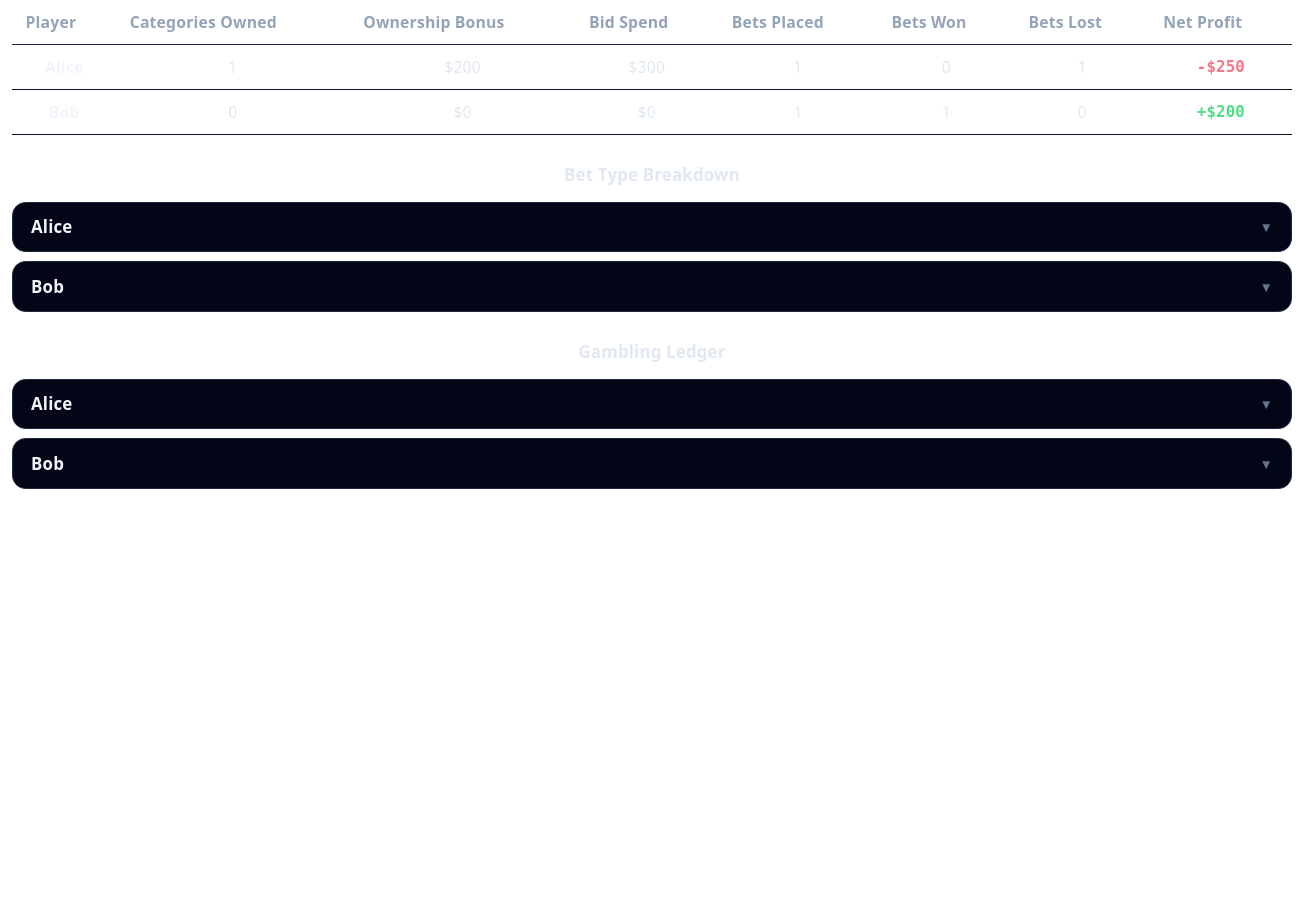
Scenario: GamblingAnalytics › renders correctly with populated ledger › renders each player their own ledger section holding only their entries
What coordinates should you click on to do the following:
click the button "Alice ▼" below "Gambling Ledger"
I would click on:
 (52, 403)
Its box is [13,380,1291,428].
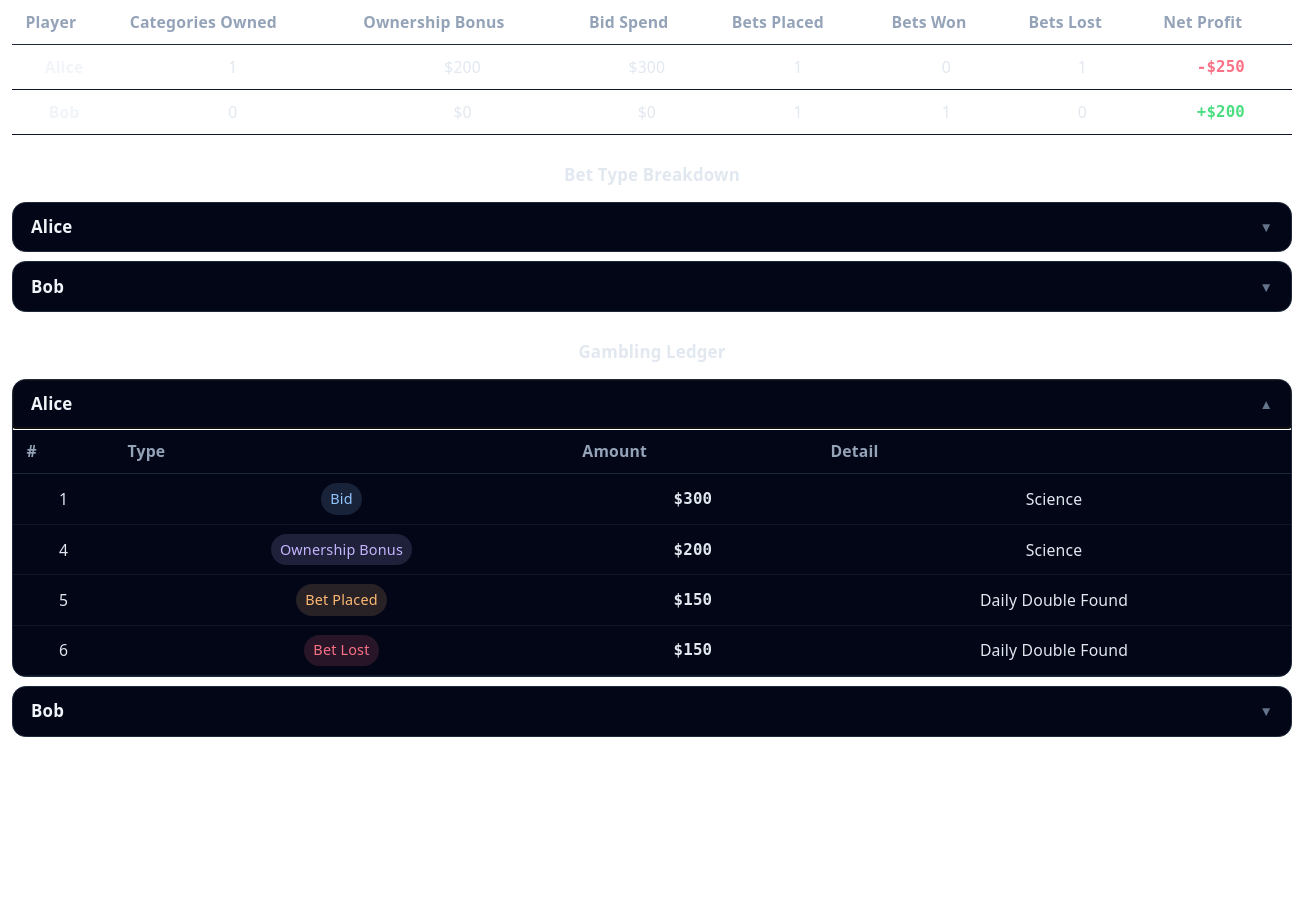
Expected: the text "Bid" is shown, [321,483,362,515]
Expected: the text "Ownership Bonus" is shown, [271,534,412,565]
Expected: the text "Bet Placed" is shown, [296,584,387,616]
What coordinates should you click on to do the following:
click the button "Bob ▼" below "Bet Lost"
I would click on:
 (47, 711)
Its box is [13,687,1291,736].
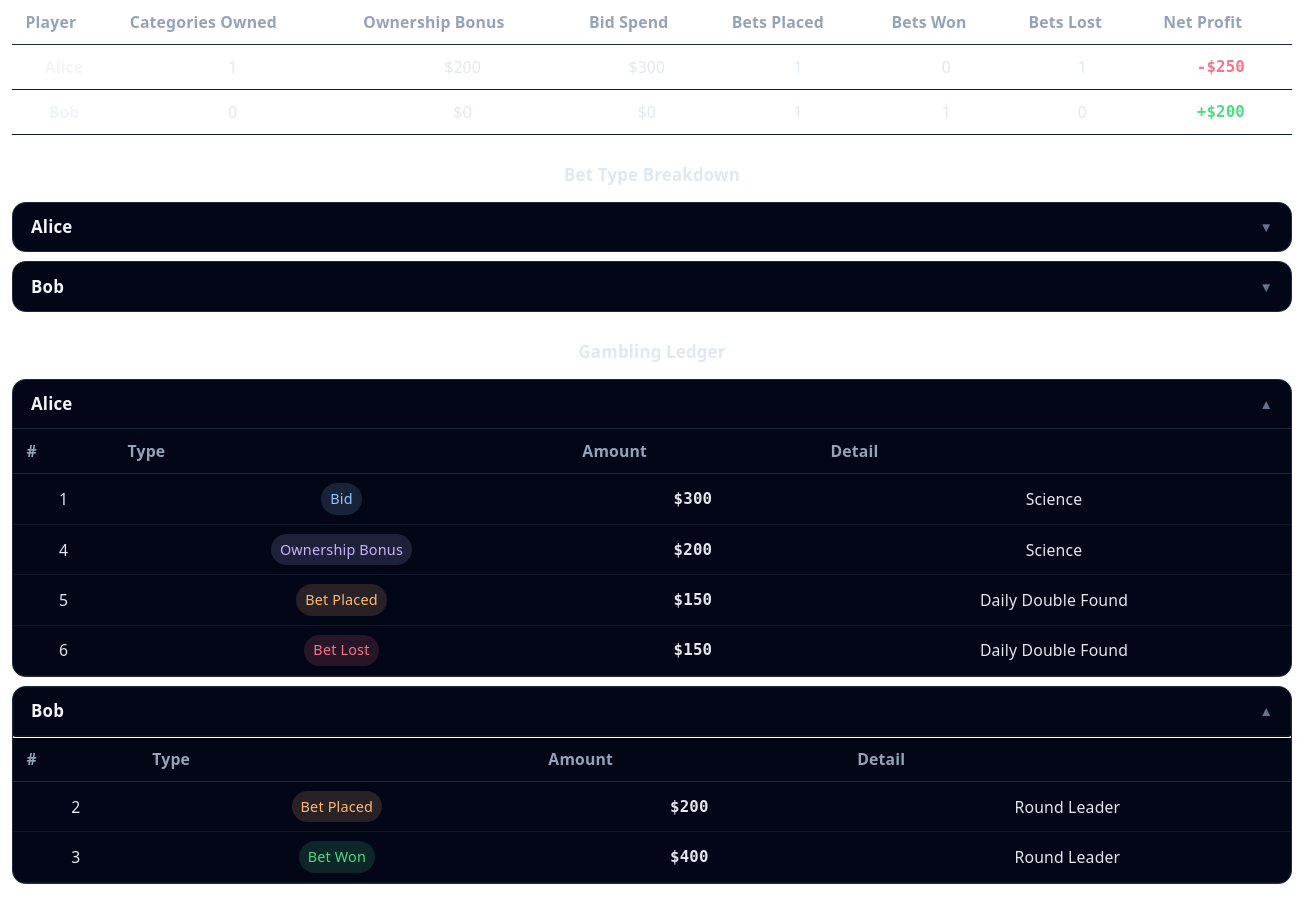
Expected: the 2nd text "Bet Placed" is shown, [292,791,382,822]
Expected: the text "Bet Won" is shown, [299,841,375,873]
